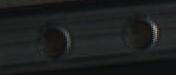joints: (120, 14, 160, 53), (33, 22, 71, 60)
